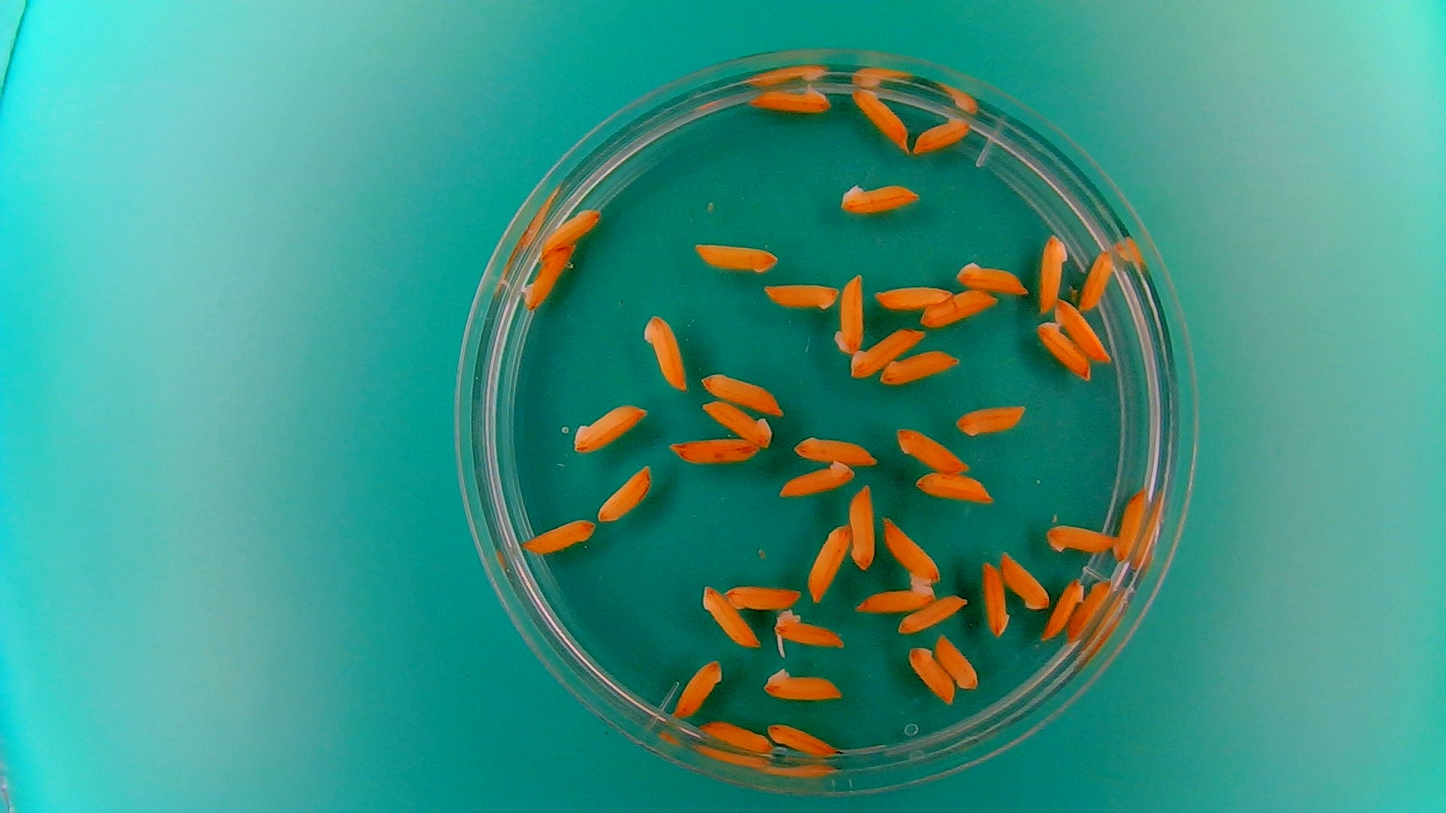no: (880, 514, 941, 585), (849, 328, 929, 382), (571, 400, 648, 455), (699, 582, 761, 648), (805, 519, 853, 604), (849, 85, 909, 151), (697, 368, 784, 413), (1053, 297, 1112, 363), (641, 312, 689, 393), (520, 243, 576, 311), (595, 461, 655, 523), (894, 425, 971, 473), (699, 398, 773, 446), (759, 663, 847, 703), (1033, 318, 1090, 379), (999, 548, 1052, 613), (776, 458, 858, 499), (671, 655, 724, 718), (538, 205, 603, 255), (519, 515, 598, 556), (667, 434, 764, 467), (895, 592, 969, 635), (835, 180, 923, 216), (918, 288, 997, 328), (853, 578, 938, 615), (791, 431, 879, 466), (881, 348, 962, 386), (1110, 485, 1149, 563), (1066, 578, 1112, 644), (914, 469, 996, 504), (907, 644, 954, 705), (953, 259, 1030, 296), (1044, 574, 1087, 640), (697, 717, 773, 754), (765, 720, 839, 757), (833, 269, 865, 354), (847, 481, 877, 571), (933, 633, 980, 690), (1037, 231, 1069, 314), (721, 580, 802, 612), (953, 403, 1029, 437), (761, 281, 840, 313), (1045, 519, 1115, 555), (980, 558, 1011, 638), (911, 114, 970, 156), (1078, 248, 1115, 312), (874, 283, 953, 312)
yes: (772, 607, 847, 661), (748, 80, 833, 114)
